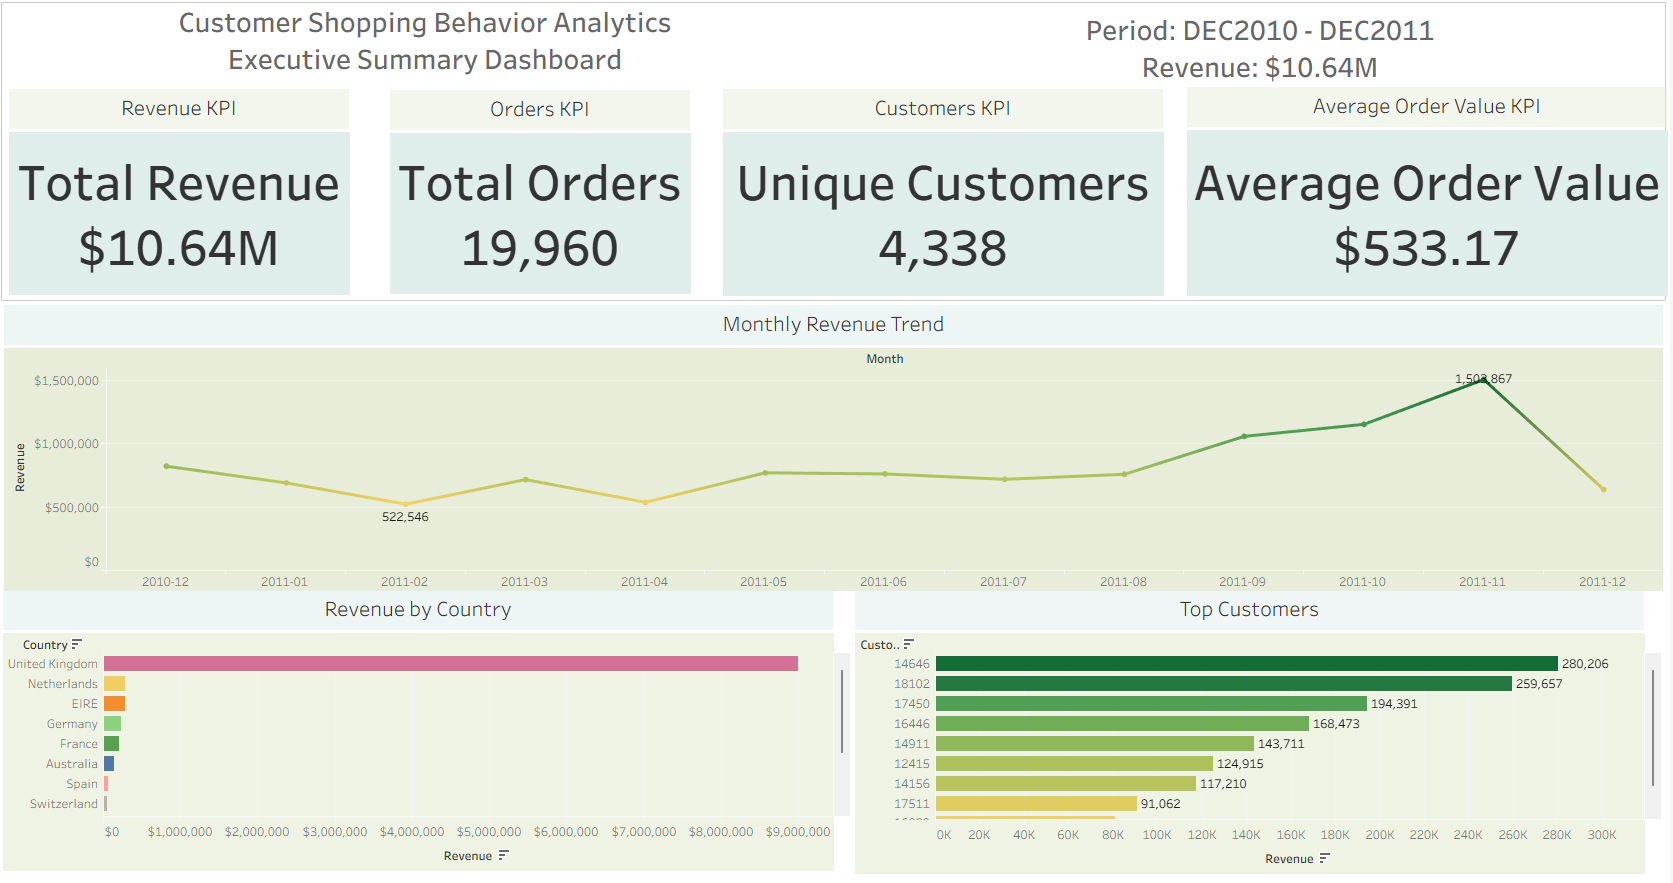

What the dashboard file says about the page in this screenshot:
{"tool":"tableau","page":{"name":"Executive Summery Dashboard","canvas":[1000,1000],"units":"permille","ordinal":1},"visuals":[{"type":"text","box":[5.9,10.6,505.9,100.6]},{"type":"text","box":[515.3,10.6,481.2,100.6]},{"type":"worksheet","title":"Revenue KPI","mark":"Automatic","box":[5.3,100.6,225,243.6]},{"type":"worksheet","title":"Customers KPI","mark":"Automatic","box":[430.4,101.1,275.6,243.8]},{"type":"worksheet","title":"Orders KPI","mark":"Automatic","box":[231.9,102.2,206.8,240.5]},{"type":"worksheet","title":"Monthly Revenue Trend","mark":"Line","rows":["revenue"],"cols":["month"],"box":[8.2,349.6,987.7,321]},{"type":"worksheet","title":"Revenue by Country","mark":"Automatic","rows":["Country"],"cols":["revenue"],"box":[7.6,669.5,504.1,315.7]},{"type":"worksheet","title":"Top Customers","mark":"Automatic","rows":["CustomerID"],"cols":["revenue"],"box":[514.7,669.5,480,318.9]}]}

Visuals, with their boxes on the dashboard's canvas, which has no fixed pixel size, in thousandths of its width and height (x1, y1, x2, y2). These are canvas units, not pixel positions in the 1673x883 screenshot, which may show the page scaled, cropped or inside an application window:
text: left=6, top=11, right=512, bottom=111
text: left=515, top=11, right=996, bottom=111
"Revenue KPI" worksheet: left=5, top=101, right=230, bottom=344
"Customers KPI" worksheet: left=430, top=101, right=706, bottom=345
"Orders KPI" worksheet: left=232, top=102, right=439, bottom=343
"Monthly Revenue Trend" worksheet (Line marks): left=8, top=350, right=996, bottom=671
"Revenue by Country" worksheet: left=8, top=670, right=512, bottom=985
"Top Customers" worksheet: left=515, top=670, right=995, bottom=988
